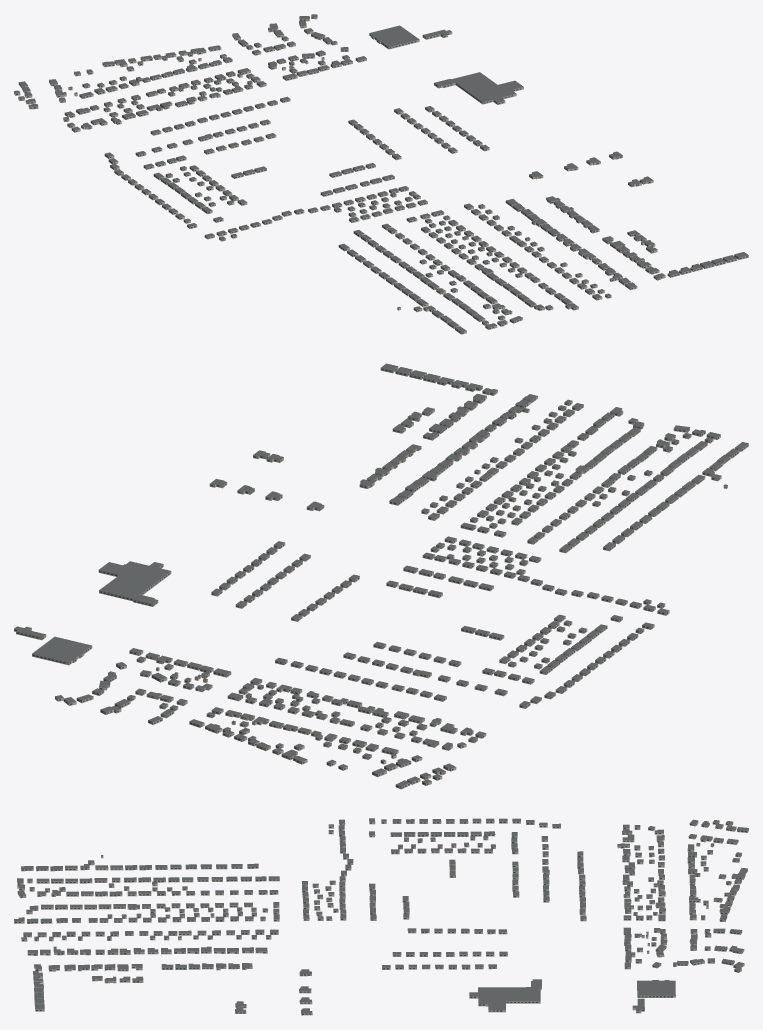
3 views of the same model, one above another, from view 1: azimuth 30°, elevation 25°; view 2: azimuth 150°, elevation 25°; view 3: azimuth 270°, elevation 25° (orthographic). The views are drawn at different scales.
Visible parts, largest first — view 1: Buildings (1, -3) Roof membrane, Buildings (1, -3) Masonry brick, Buildings (1, -3) Architectural tinted glass, Buildings (1, -3) Metal coping; view 2: Buildings (1, -3) Roof membrane, Buildings (1, -3) Masonry brick, Buildings (1, -3) Architectural tinted glass, Buildings (1, -3) Metal coping; view 3: Buildings (1, -3) Roof membrane, Buildings (1, -3) Masonry brick, Buildings (1, -3) Architectural tinted glass, Buildings (1, -3) Metal coping.
Part boxes in pixels (x1,y1,x2,y2): Buildings (1, -3) Roof membrane: [14, 14, 748, 332]; Buildings (1, -3) Masonry brick: [14, 15, 748, 334]; Buildings (1, -3) Architectural tinted glass: [14, 17, 747, 333]; Buildings (1, -3) Metal coping: [15, 14, 748, 331]; Buildings (1, -3) Roof membrane: [14, 363, 748, 786]; Buildings (1, -3) Masonry brick: [14, 367, 748, 789]; Buildings (1, -3) Architectural tinted glass: [14, 368, 747, 787]; Buildings (1, -3) Metal coping: [14, 364, 747, 786]; Buildings (1, -3) Roof membrane: [14, 818, 748, 1013]; Buildings (1, -3) Masonry brick: [14, 819, 748, 1015]; Buildings (1, -3) Architectural tinted glass: [15, 821, 748, 1014]; Buildings (1, -3) Metal coping: [14, 818, 746, 1013].
Bounding box in the file's own units: 630 × 5.9 × 1010.
